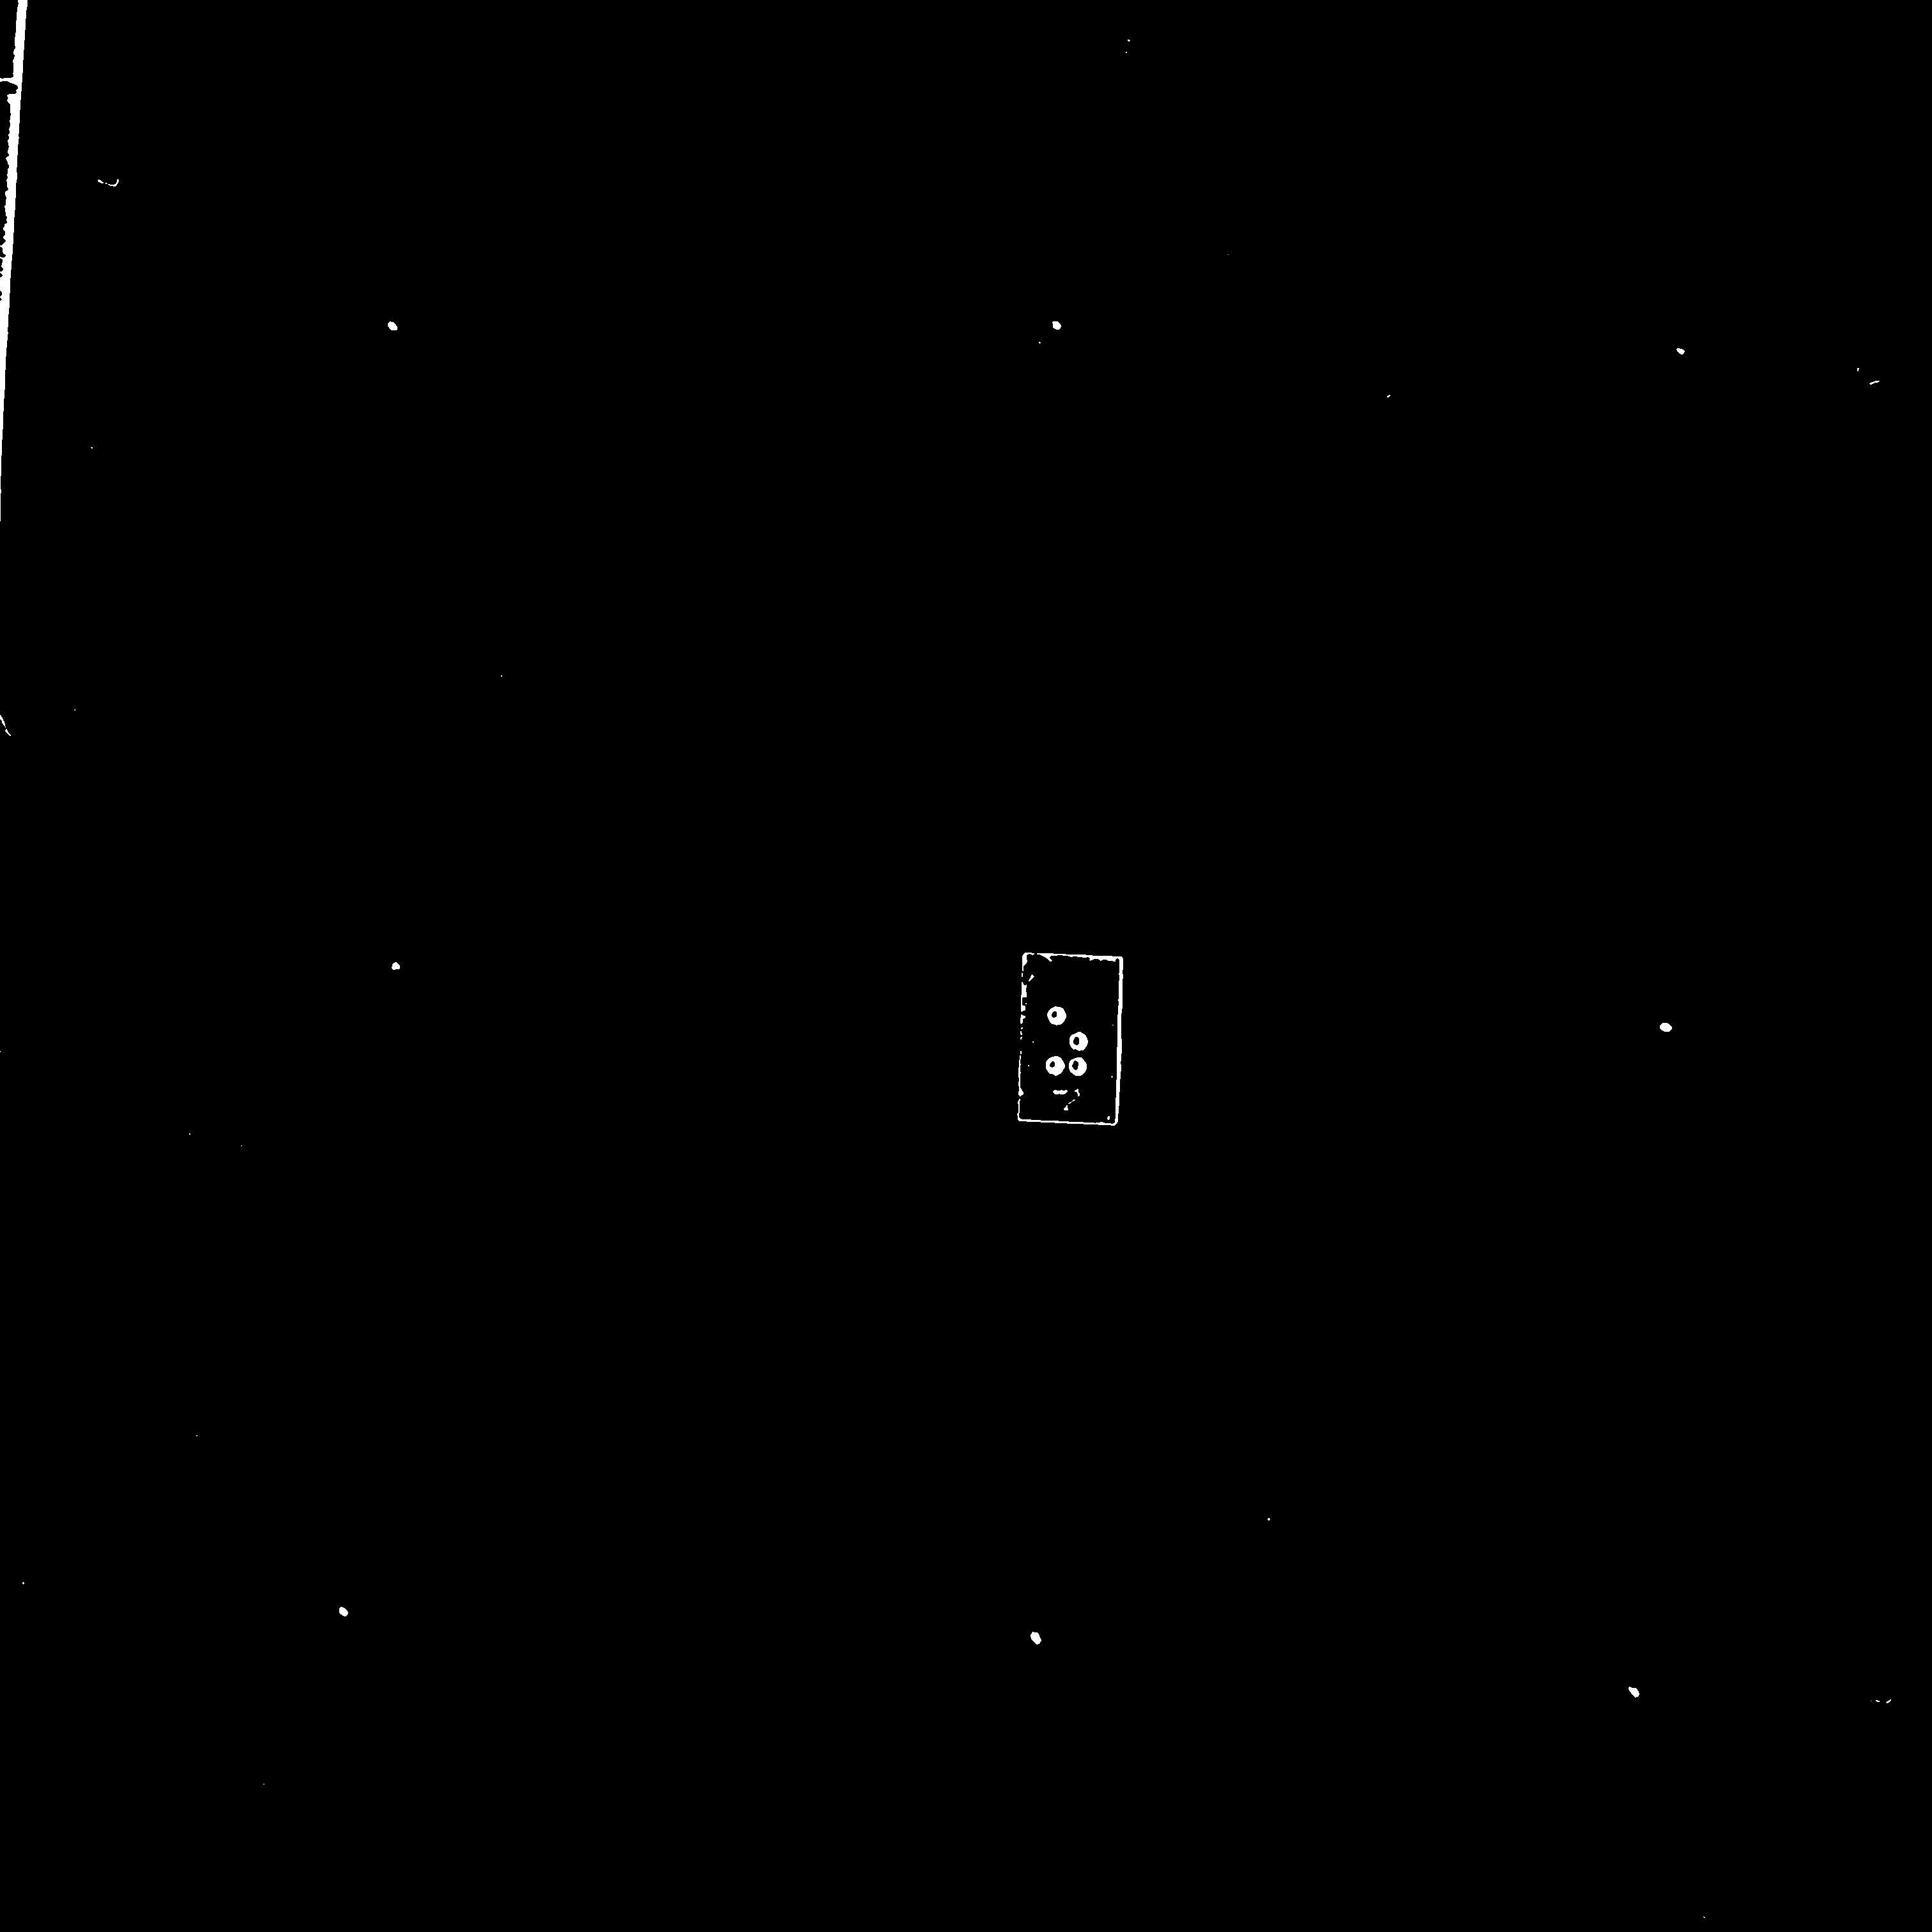z: (1038, 998, 1104, 1084)
